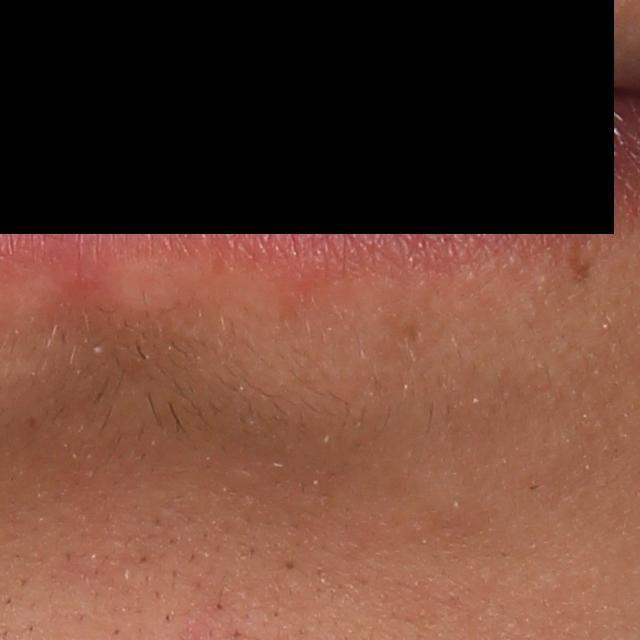nevus: (568, 252, 595, 284)
